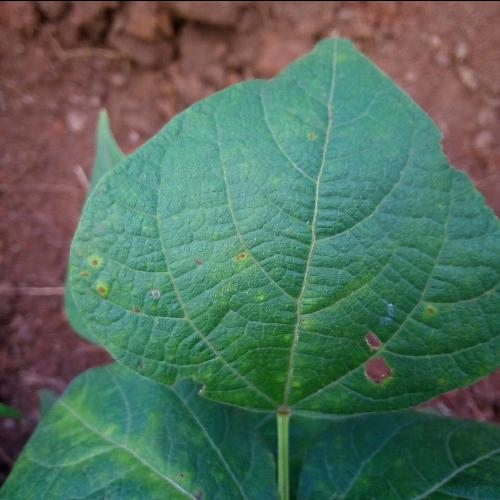hawar: (222, 241, 310, 361), (332, 309, 406, 392), (72, 241, 132, 326)
